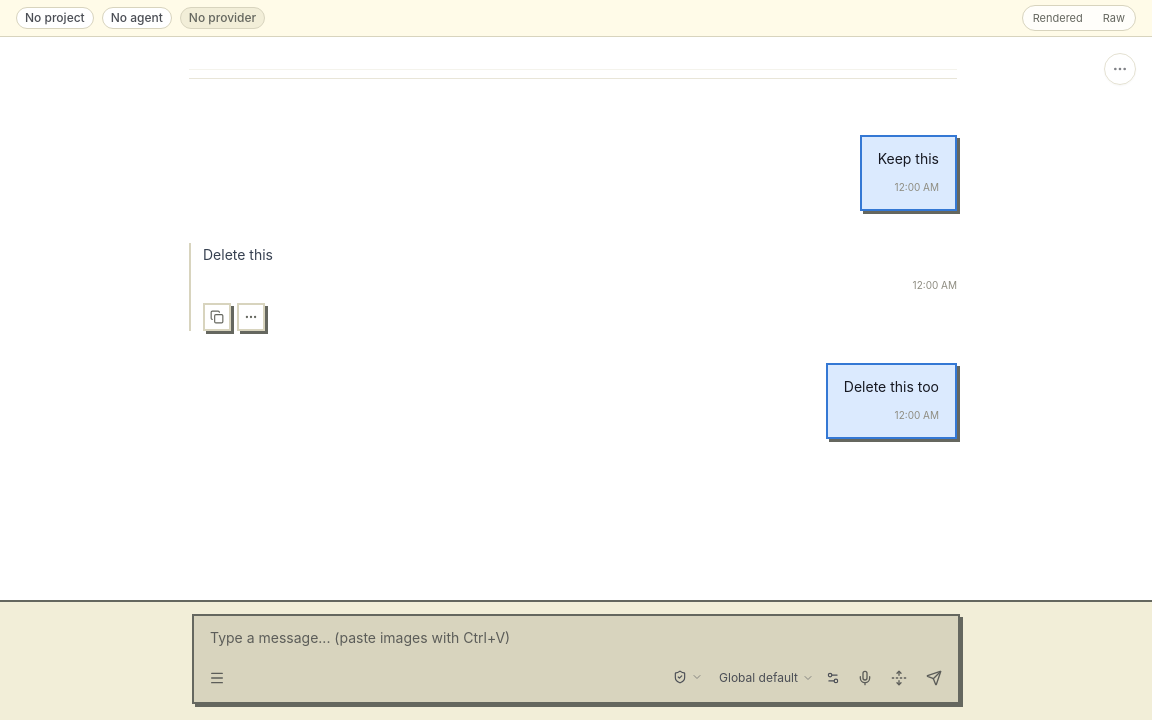
Test case: ChatWindow — Slash Commands › deletes the selected message and everything after it after confirmation
Click the 1st button named "More message actions" at (251, 317), box [237,303,265,331]
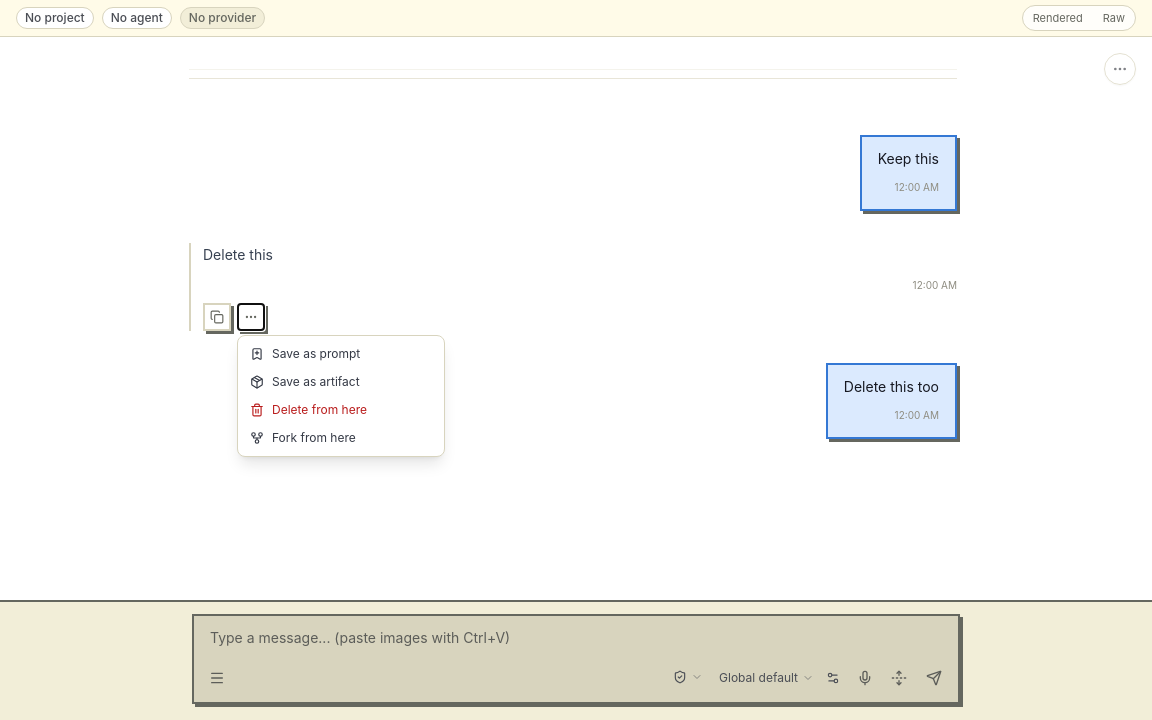
Click the menu item "Delete from here" at (341, 410), box [242,396,440,424]
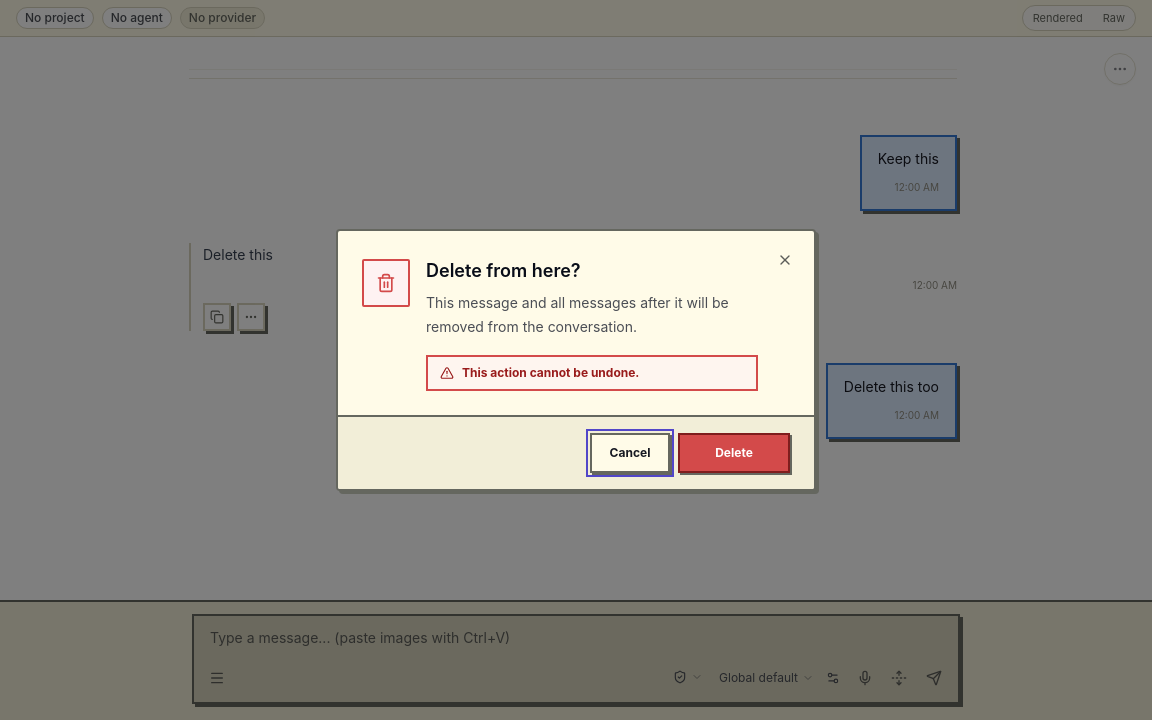
Result: the dialog "Delete from here?" is shown at [336,229,816,491]
Click the button "Delete" at (734, 453), box [678,433,790,473]
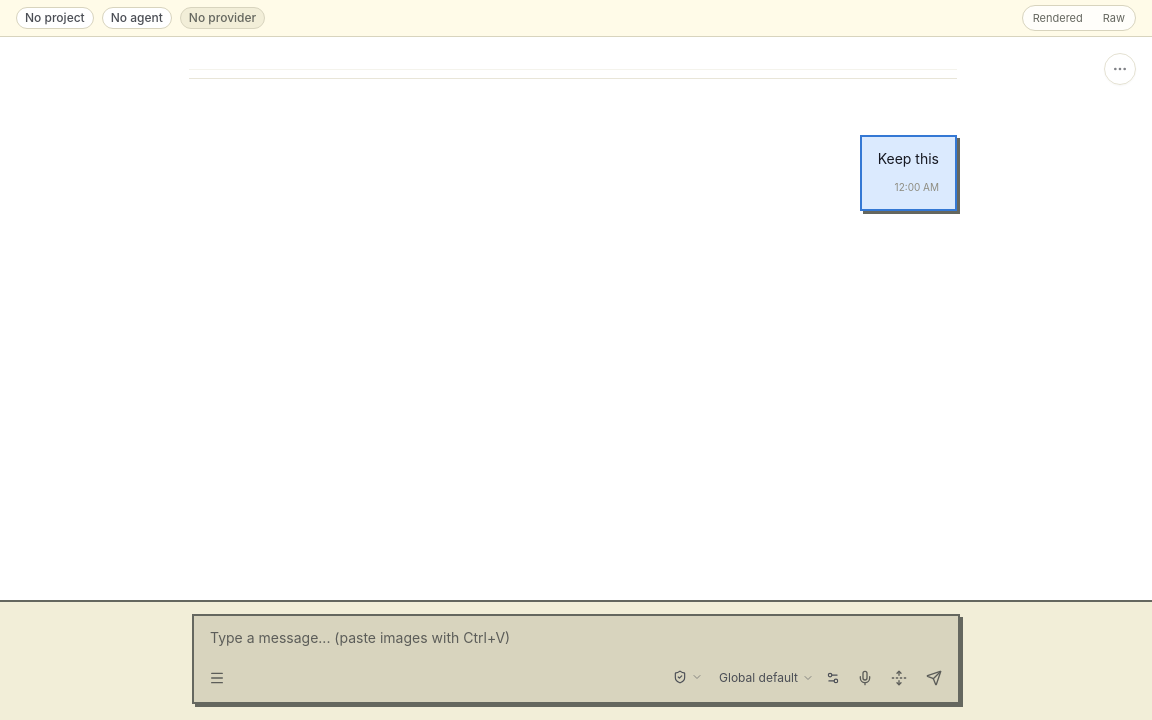
Expected: the text "Keep this" is shown, [878,149,939,169]
Result: the text "Delete this" is gone
Result: the text "Delete this too" is gone
